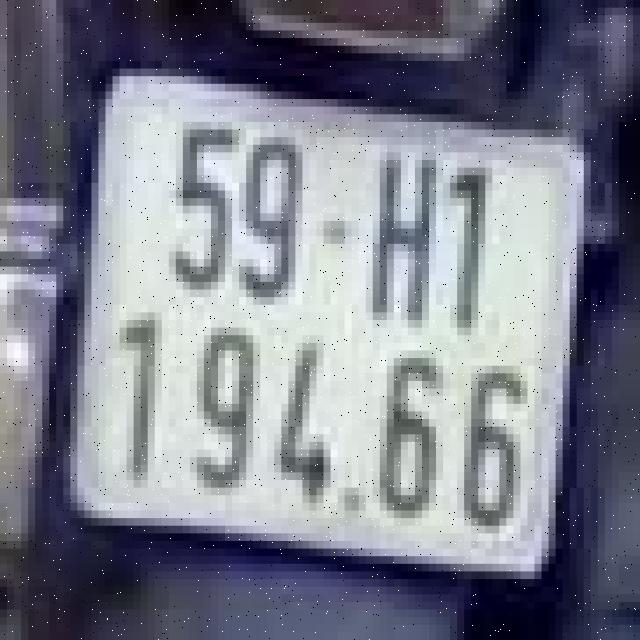1: (102, 316, 165, 492), (446, 168, 496, 335)
4: (274, 339, 338, 507)
5: (165, 122, 236, 297)
6: (369, 350, 447, 526), (461, 366, 531, 533)
9: (193, 320, 257, 495), (243, 137, 306, 297)
H: (355, 144, 440, 328)
